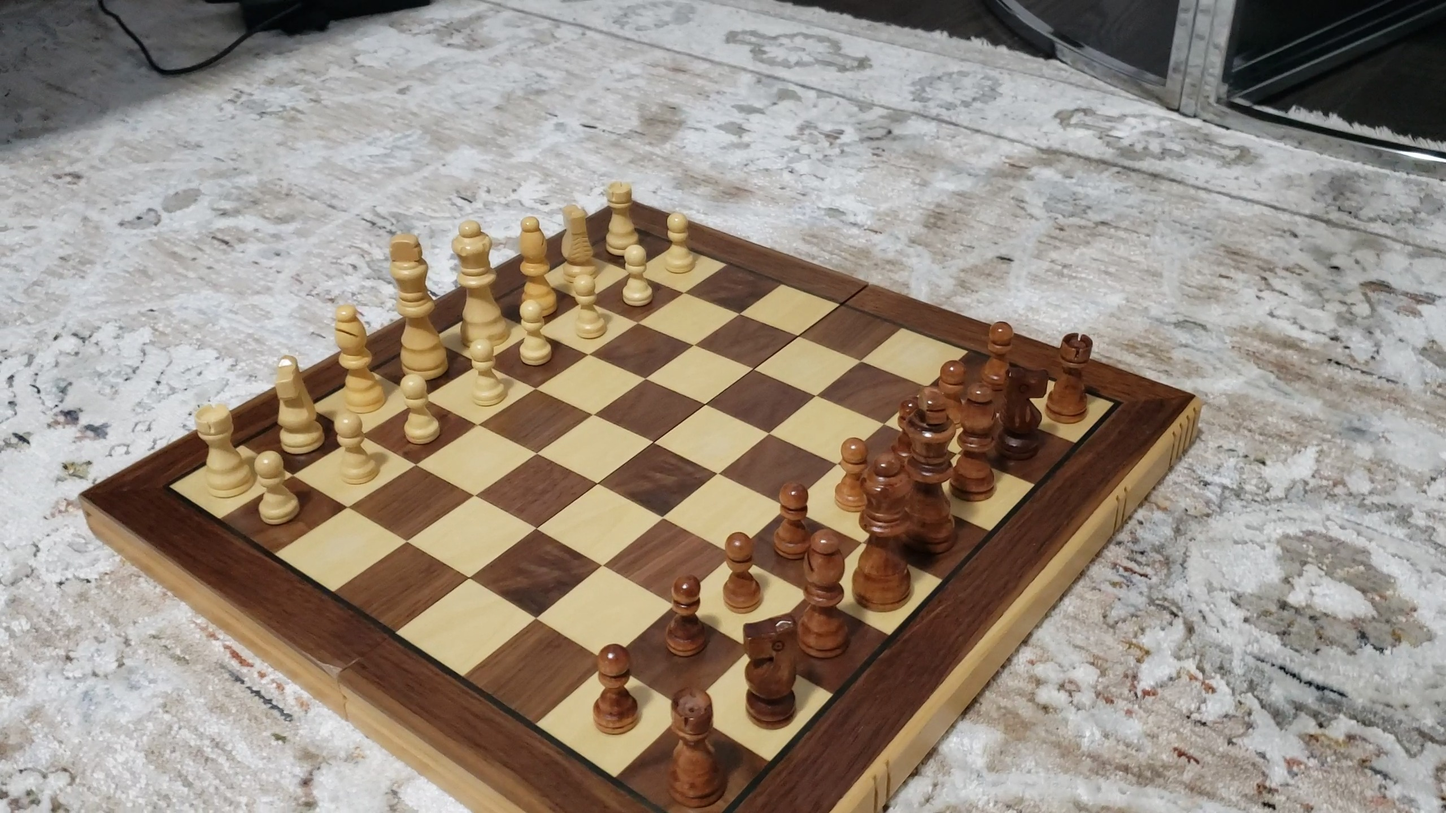black-bishop: (798, 529, 853, 660), (951, 372, 1005, 501)
black-king: (890, 383, 966, 551)
black-knight: (741, 617, 799, 728), (993, 362, 1046, 461)
black-pawn: (589, 642, 641, 737), (663, 573, 711, 660), (720, 528, 763, 614), (770, 477, 814, 561), (834, 434, 872, 513), (979, 316, 1017, 392), (933, 353, 970, 427)
black-queen: (847, 445, 925, 614)
black-rook: (669, 687, 724, 808), (1046, 330, 1096, 422)
white-bishop: (331, 301, 385, 415), (516, 213, 559, 322)
white-king: (386, 229, 446, 379)
white-knight: (271, 354, 324, 455), (560, 198, 601, 291)
white-pawn: (248, 448, 307, 530), (328, 410, 384, 489), (394, 371, 445, 449), (461, 334, 512, 412), (565, 264, 612, 345), (511, 294, 559, 371), (657, 207, 703, 279), (615, 239, 659, 313)
white-queen: (451, 214, 507, 355)
white-rook: (189, 400, 256, 499), (601, 178, 643, 257)
